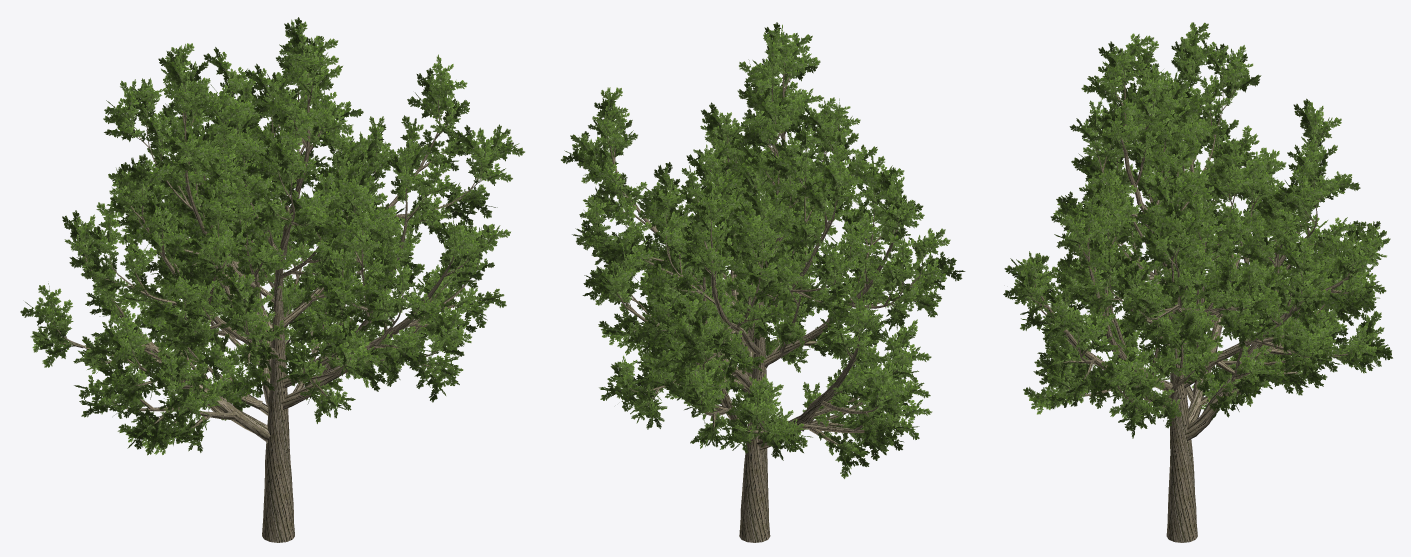
File: oak-large.glb
3 views of the same model, side by side, from view 1: azimuth 30°, elevation 25°; view 2: azimuth 150°, elevation 25°; view 3: azimuth 270°, elevation 25° (orthographic). The views are drawn at different scales.
Visible parts, largest first — view 1: Tree; view 2: Tree; view 3: Tree.
Boxes of the visible parts, x1,y1,x2,y2 form: Tree: [20, 17, 524, 542]; Tree: [561, 22, 965, 542]; Tree: [1003, 22, 1392, 542].
Size of the model in its own units: 92.52 by 108 by 76.39.
Materials: 2 (2 with a texture image).
